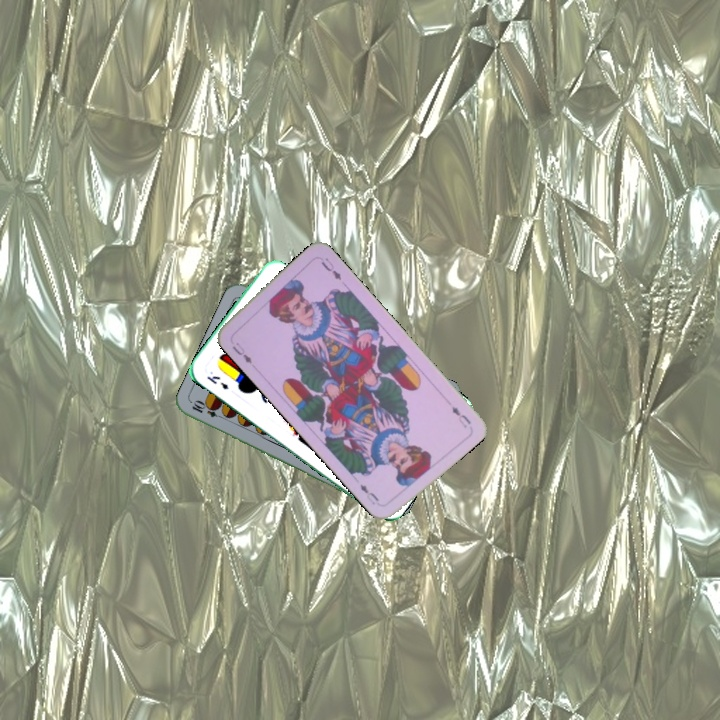E10: (188, 398, 228, 422)
EK: (203, 372, 232, 392)
EU: (228, 338, 257, 369), (447, 402, 474, 430)
